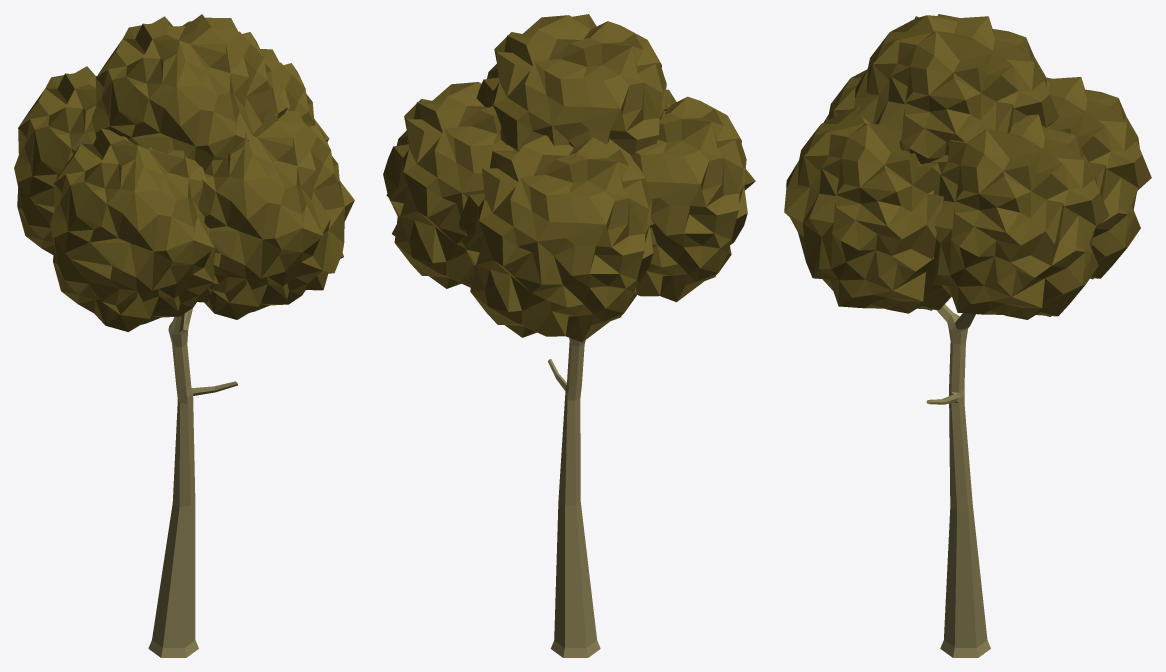
File: Thin_bushy_tree.fbx
3 renders of one model, left to right at view 1: azimuth 30°, elevation 25°; view 2: azimuth 150°, elevation 25°; view 3: azimuth 270°, elevation 25°, orthographic.
Parts seen in each view (by area): view 1: LowPoly Tree .007; view 2: LowPoly Tree .007; view 3: LowPoly Tree .007.
Boxes of the visible parts, bbox=[...] form: LowPoly Tree .007: bbox=[14, 14, 354, 657]; LowPoly Tree .007: bbox=[383, 14, 755, 657]; LowPoly Tree .007: bbox=[784, 14, 1151, 657].
Bounding box in the file's own units: 108 × 214 × 114.
